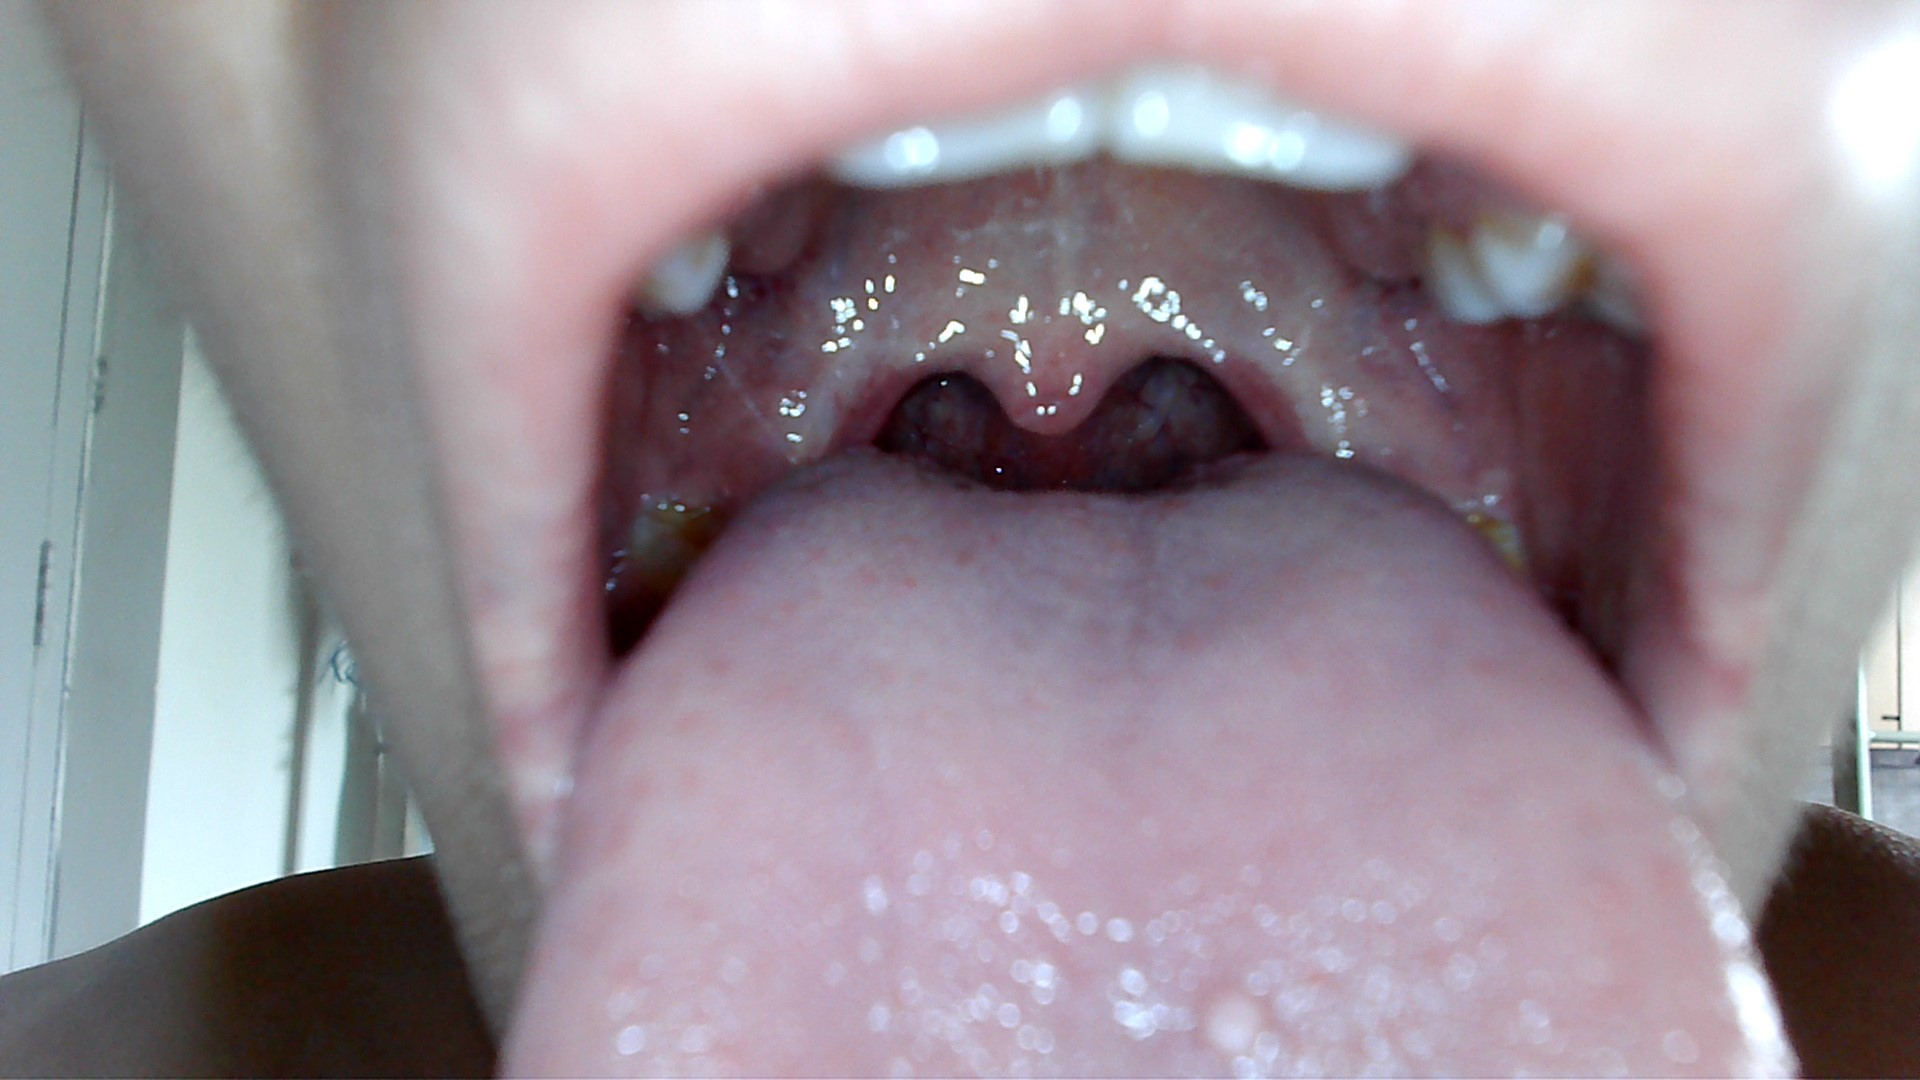throat: (1230, 313, 1414, 464), (698, 348, 898, 456)
